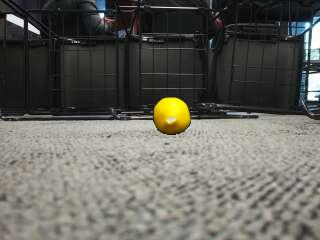lemon: (155, 98, 191, 134)
